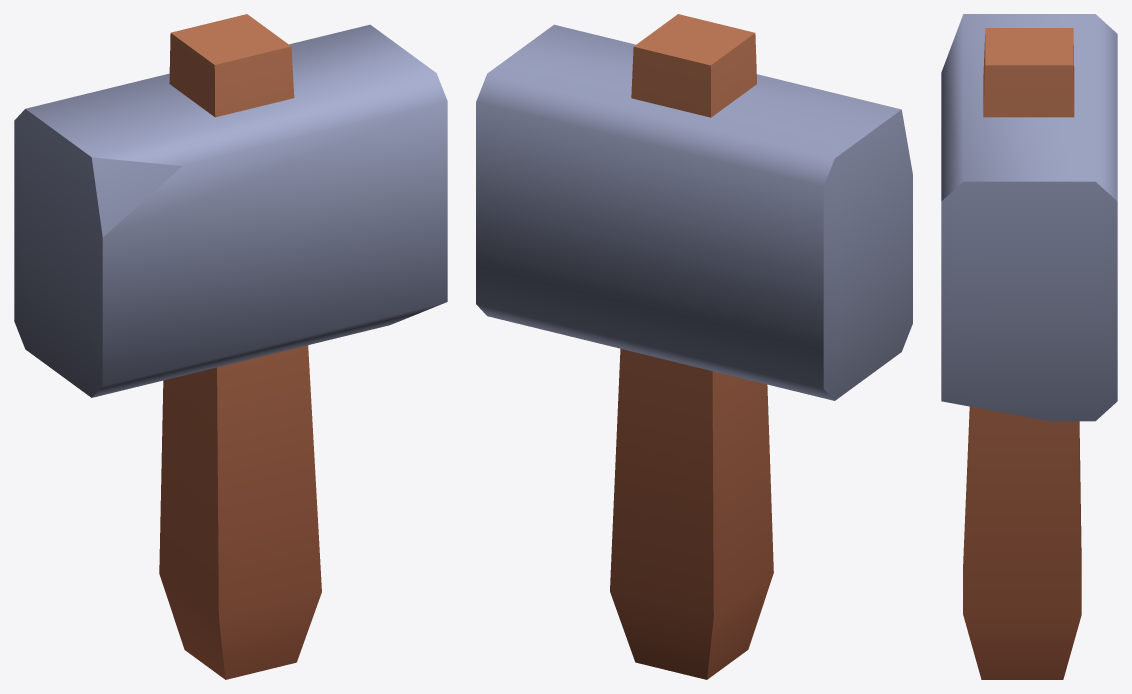
Rendered from survival-tool-hammer.glb.
The picture shows the model from 3 angles, left to right: view 1: azimuth 30°, elevation 25°; view 2: azimuth 150°, elevation 25°; view 3: azimuth 270°, elevation 25°; orthographic projection.
Parts seen in each view (by area): view 1: survival-tool-hammer; view 2: survival-tool-hammer; view 3: survival-tool-hammer.
Boxes of the visible parts, left/top/right/bottom form: survival-tool-hammer: left=14, top=14, right=447, bottom=679; survival-tool-hammer: left=476, top=14, right=912, bottom=679; survival-tool-hammer: left=941, top=14, right=1117, bottom=679.
Bounding box in the file's own units: 0.09 × 0.1535 × 0.04.
